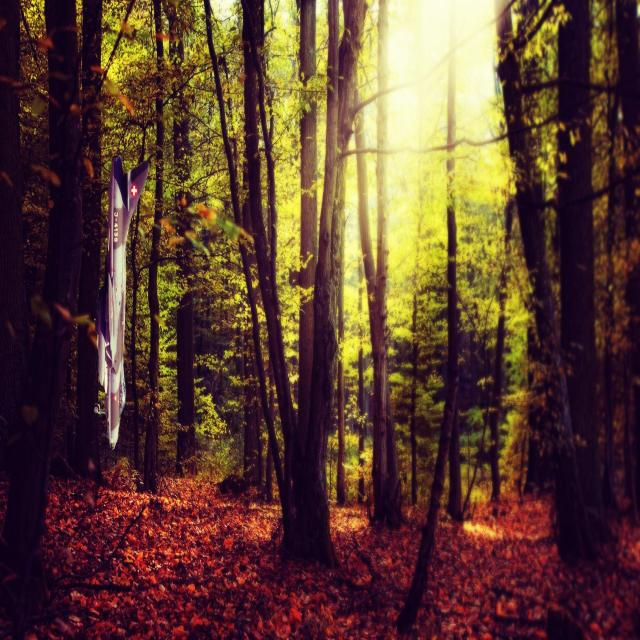airplane: (94, 154, 149, 450)
